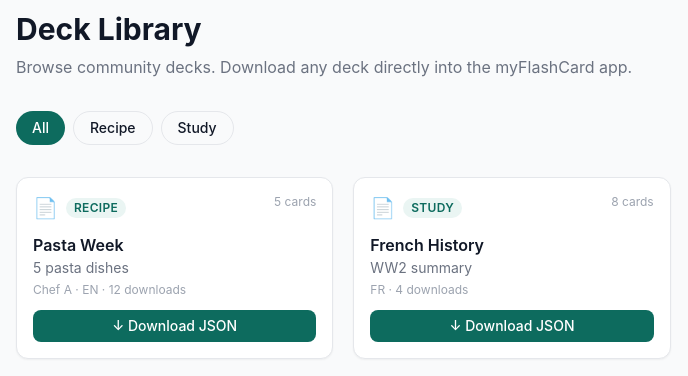
Test case: category filter buttons change displayed decks
Step 1. Click the button "Recipe" → (113, 128), box [73,111,153,145]
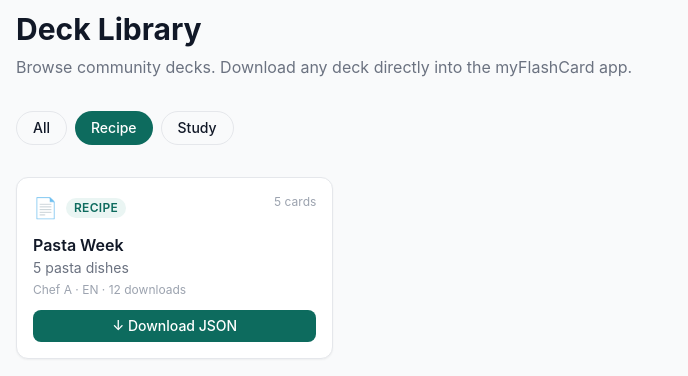
Expected: the heading "Pasta Week" is shown, [33,235,124,255]
Expected: the heading "French History" is gone
